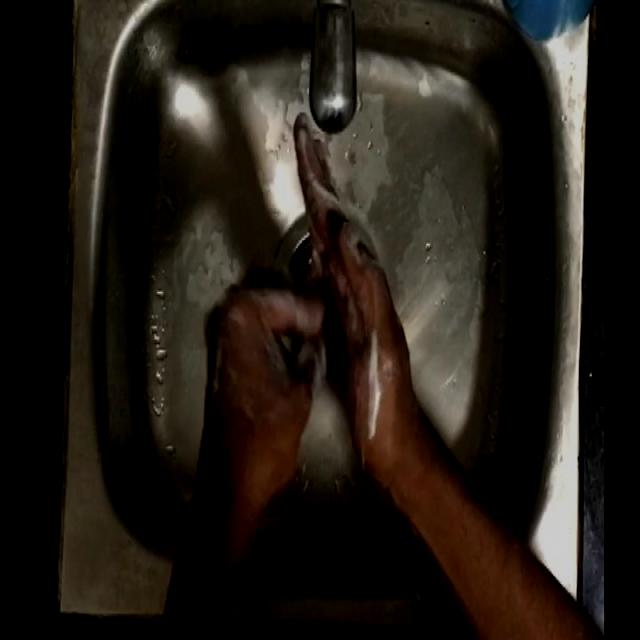step_6: (194, 101, 427, 480)
